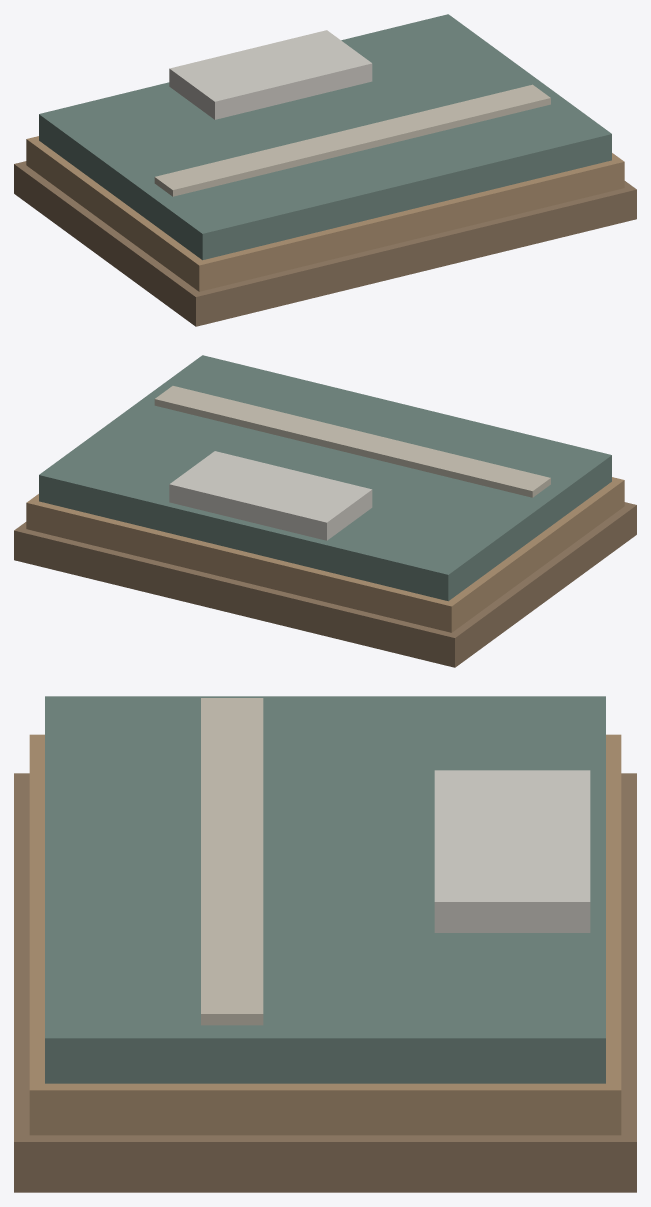
The model's file is batik-shirt.glb.
3 renders of one model, top to bottom at view 1: azimuth 30°, elevation 25°; view 2: azimuth 150°, elevation 25°; view 3: azimuth 270°, elevation 25°, orthographic. The views are drawn at different scales.
Parts seen in each view (by area): view 1: geometry_2, geometry_0, geometry_1, geometry_3, geometry_4; view 2: geometry_2, geometry_0, geometry_1, geometry_3, geometry_4; view 3: geometry_2, geometry_0, geometry_1, geometry_3, geometry_4.
Boxes of the visible parts, box(x1,y1,x2,y2) form: geometry_2: box(39, 14, 611, 260); geometry_0: box(14, 161, 636, 326); geometry_1: box(26, 136, 624, 291); geometry_3: box(169, 30, 372, 119); geometry_4: box(154, 84, 550, 196); geometry_2: box(39, 355, 611, 601); geometry_0: box(14, 502, 636, 667); geometry_1: box(26, 477, 624, 632); geometry_3: box(169, 451, 372, 540); geometry_4: box(154, 386, 550, 497); geometry_2: box(45, 696, 605, 1083); geometry_0: box(14, 773, 636, 1192); geometry_1: box(29, 734, 621, 1135); geometry_3: box(434, 770, 590, 932); geometry_4: box(201, 698, 263, 1025).
Bounding box in the file's own units: 0.28 × 0.061 × 0.2.
